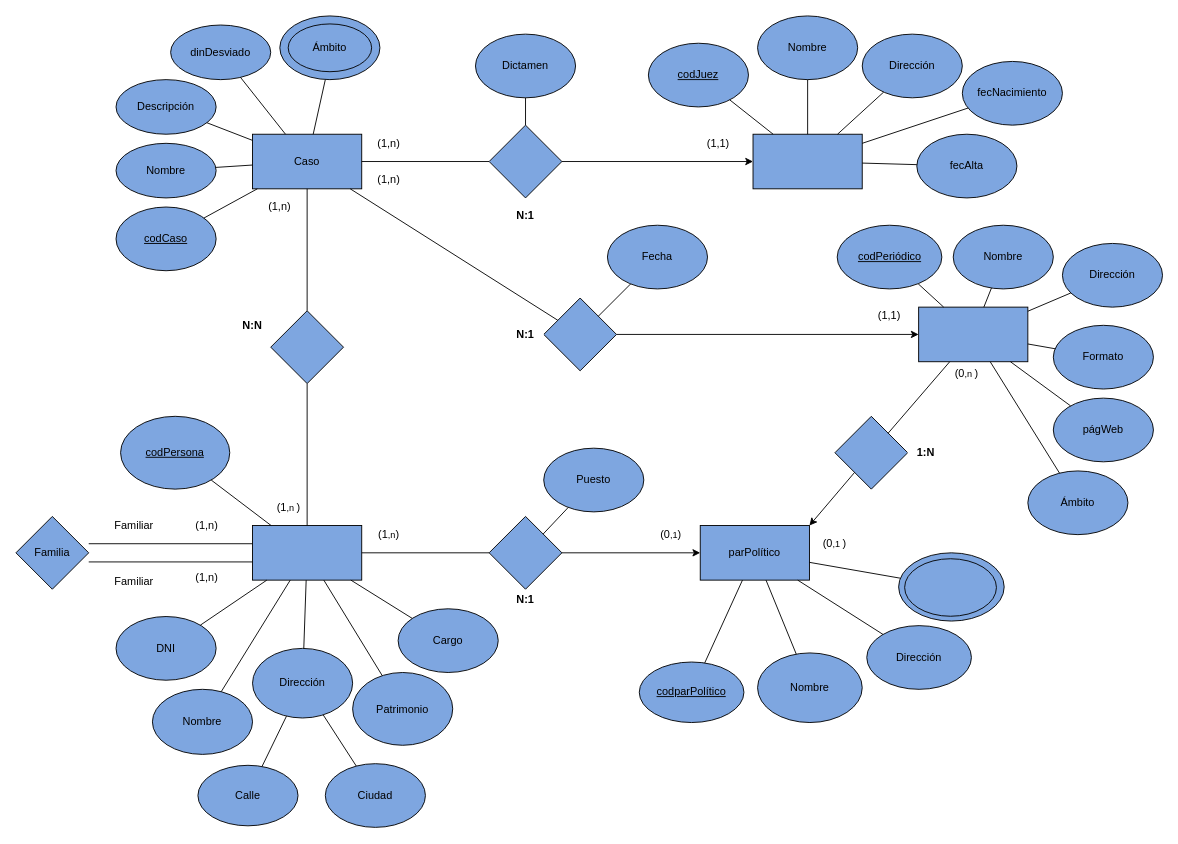
This 1178x844 diagram has some shape labels left out. The centre of each missing label's shape, as x and y in pixels:
"Afín" goes at pixel 871 452.
"Descubierto" goes at pixel 580 334.
"Implica" goes at pixel 307 347.
"Investigado" goes at pixel 525 161.
"Juez" goes at pixel 807 161.
"Periódico" goes at pixel 973 334.
"Persona" goes at pixel 307 552.
"Pertenece" goes at pixel 525 552.
"Teléfonos" goes at pixel 950 587.
